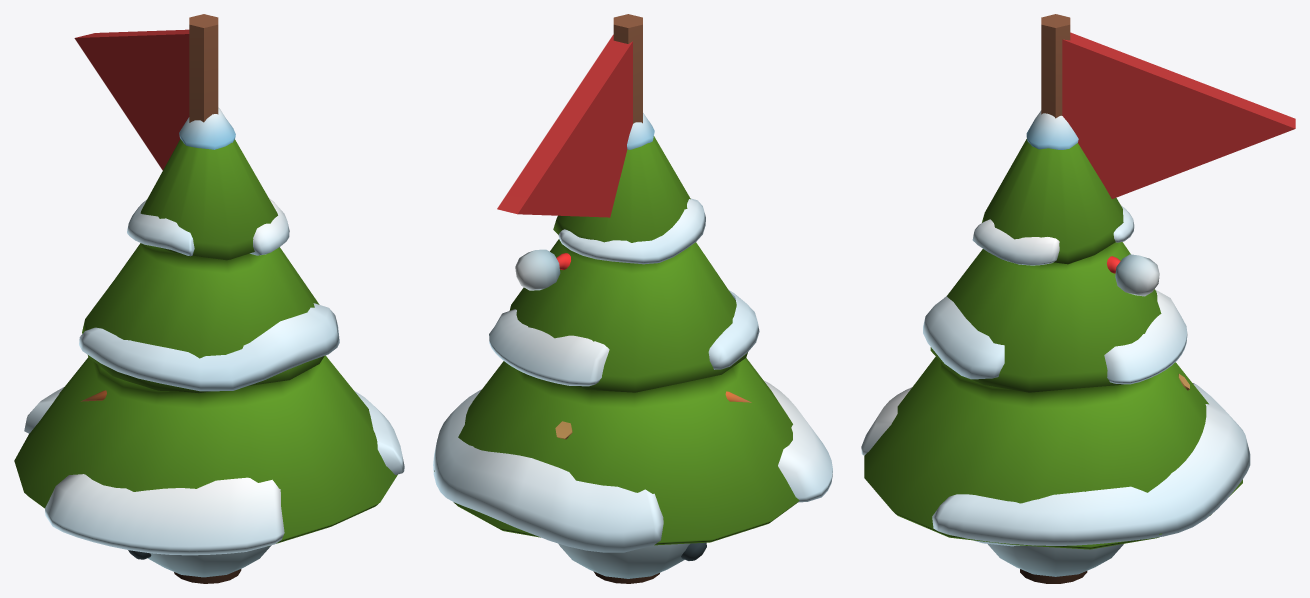
Rendered from decor_winter.fbx.
3 views of the same model, side by side, from view 1: azimuth 30°, elevation 25°; view 2: azimuth 150°, elevation 25°; view 3: azimuth 270°, elevation 25° (orthographic).
Parts seen in each view (by area): view 1: tree, flag, snowman; view 2: tree, flag, snowman; view 3: tree, flag, snowman.
Boxes of the visible parts, bbox=[...] form: tree: bbox=[14, 107, 404, 583]; flag: bbox=[74, 14, 218, 170]; snowman: bbox=[81, 390, 271, 577]; tree: bbox=[433, 113, 832, 583]; flag: bbox=[497, 14, 642, 217]; snowman: bbox=[515, 249, 751, 578]; tree: bbox=[861, 110, 1250, 583]; flag: bbox=[1041, 14, 1295, 198]; snowman: bbox=[988, 254, 1189, 576].
Size of the model in its own units: 1.66 by 2.52 by 1.81.
1 material, 1 textured.
